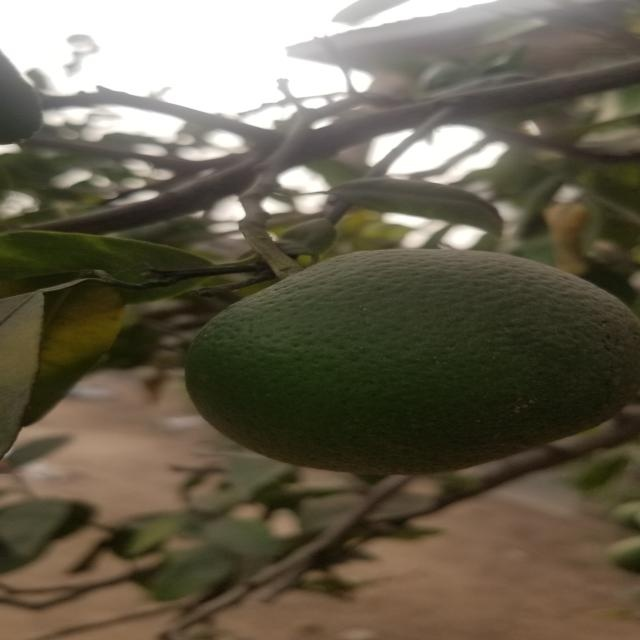agrume: (189, 251, 640, 471)
